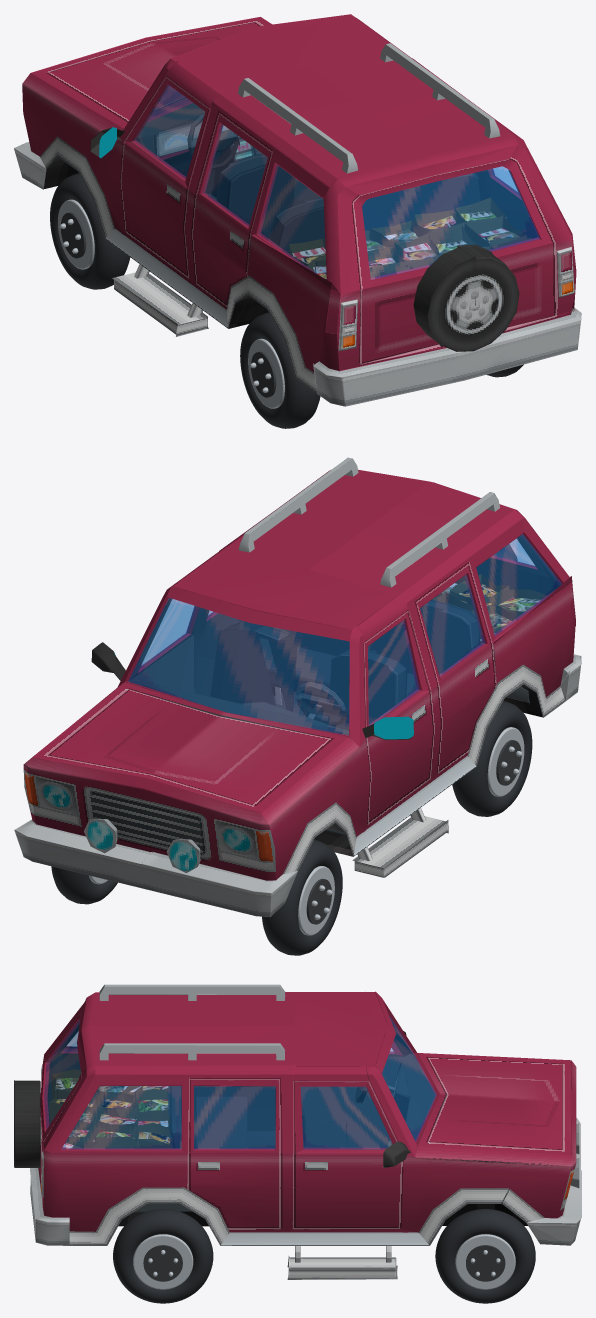
File: car-marge_v.glb
3 views of the same model, one above another, from view 1: azimuth 30°, elevation 25°; view 2: azimuth 150°, elevation 25°; view 3: azimuth 270°, elevation 25° (orthographic). The views are drawn at different scales.
Parts seen in each view (by area): view 1: marge_vShape.010, marge_vShape.002, marge_vShape.003, marge_vShape.006, TrunkRotShape.022, marge_vShape.007, marge_vShape.011, marge_vShape.009, extrasShape.007, marge_vShape.008, HoodRotShape.021, DoorDRotShape.087 (+13 smaller); view 2: marge_vShape.005, marge_vShape.010, marge_vShape.011, marge_vShape.006, marge_vShape.003, HoodRotShape.021, marge_vShape.007, marge_vShape.008, DoorDRotShape.087, Rounded tire.129, Rounded tire.128, DoorDRotShape.090 (+13 smaller); view 3: marge_vShape.010, marge_vShape.003, marge_vShape.011, marge_vShape.006, marge_vShape.007, HoodRotShape.021, marge_vShape.004, DoorPRotShape.093, marge_vShape.008, extrasShape.007, marge_vShape.005, Rounded tire.130 (+14 smaller).
Part boxes in pixels (x1=…): marge_vShape.010: x1=177, y1=18, x2=517, y2=195; marge_vShape.002: x1=313, y1=145, x2=581, y2=406; marge_vShape.003: x1=22, y1=73, x2=576, y2=372; marge_vShape.006: x1=99, y1=97, x2=551, y2=263; TrunkRotShape.022: x1=362, y1=166, x2=539, y2=279; marge_vShape.007: x1=116, y1=14, x2=572, y2=293; marge_vShape.011: x1=148, y1=86, x2=519, y2=279; marge_vShape.009: x1=90, y1=127, x2=519, y2=351; extrasShape.007: x1=289, y1=197, x2=531, y2=279; marge_vShape.008: x1=40, y1=136, x2=317, y2=393; HoodRotShape.021: x1=47, y1=22, x2=260, y2=121; DoorDRotShape.087: x1=120, y1=141, x2=188, y2=277; marge_vShape.005: x1=14, y1=682, x2=348, y2=916; marge_vShape.010: x1=178, y1=457, x2=515, y2=625; marge_vShape.011: x1=128, y1=534, x2=561, y2=735; marge_vShape.006: x1=94, y1=535, x2=560, y2=865; marge_vShape.003: x1=72, y1=576, x2=575, y2=879; HoodRotShape.021: x1=48, y1=689, x2=332, y2=805; marge_vShape.007: x1=117, y1=470, x2=571, y2=746; marge_vShape.008: x1=283, y1=664, x2=565, y2=877; DoorDRotShape.087: x1=366, y1=690, x2=434, y2=824; Rounded tire.129: x1=262, y1=840, x2=342, y2=955; Rounded tire.128: x1=452, y1=701, x2=532, y2=816; DoorDRotShape.090: x1=368, y1=620, x2=419, y2=725; marge_vShape.010: x1=78, y1=984, x2=377, y2=1071; marge_vShape.003: x1=44, y1=1046, x2=571, y2=1232; marge_vShape.011: x1=62, y1=1016, x2=436, y2=1148; marge_vShape.006: x1=47, y1=1024, x2=579, y2=1212; marge_vShape.007: x1=40, y1=991, x2=439, y2=1156; HoodRotShape.021: x1=428, y1=1057, x2=562, y2=1149; marge_vShape.004: x1=184, y1=1150, x2=429, y2=1245; DoorPRotShape.093: x1=294, y1=1150, x2=403, y2=1228; marge_vShape.008: x1=69, y1=1137, x2=544, y2=1279; extrasShape.007: x1=49, y1=1069, x2=171, y2=1148; marge_vShape.005: x1=418, y1=1053, x2=581, y2=1245; Rounded tire.130: x1=435, y1=1209, x2=535, y2=1303.
Bounding box in the file's own units: 2.91 × 2.5 × 5.28.
Materials: 16 (13 with a texture image).
